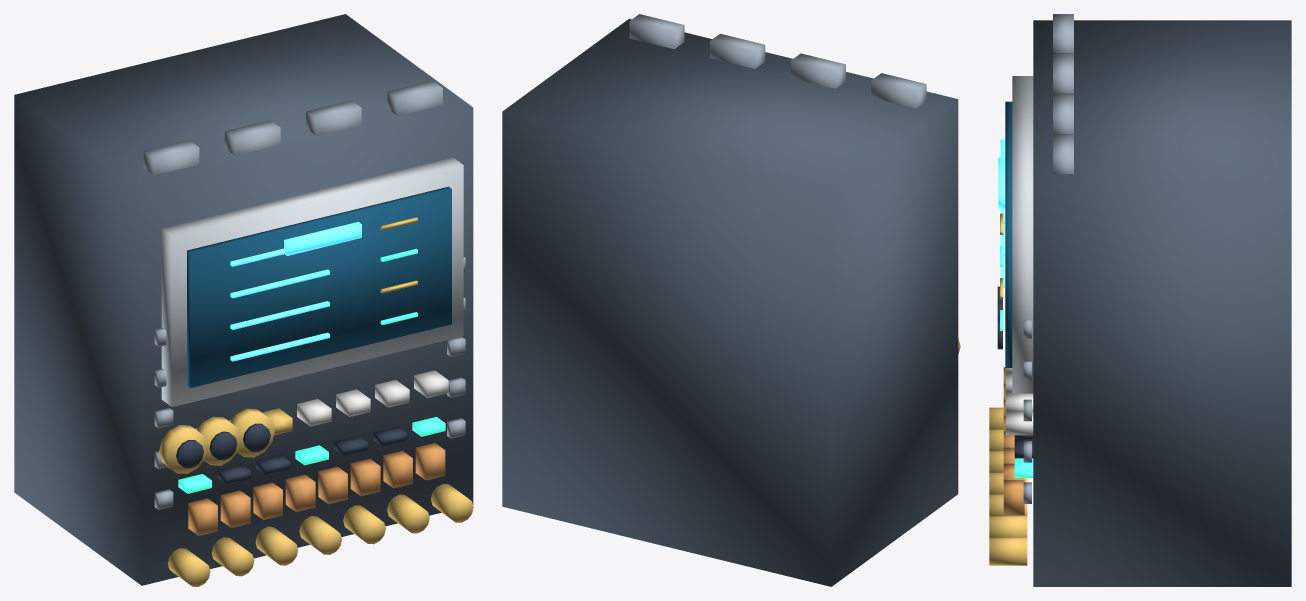
File: 71_L87_IndependentOverspeedProtector.glb
3 renders of one model, left to right at view 1: azimuth 30°, elevation 25°; view 2: azimuth 150°, elevation 25°; view 3: azimuth 270°, elevation 25°, orthographic.
Parts seen in each view (by area): view 1: L87_IndependentOverspeedProte_Part_0000, L87_IndependentOverspeedProte_Part_0002, L87_IndependentOverspeedProte_Part_0001, L87_IndependentOverspeedProte_Part_0004, L87_IndependentOverspeedProte_Part_0009, L87_IndependentOverspeedProte_Part_0010, L87_IndependentOverspeedProte_Part_0006, L87_IndependentOverspeedProte_Part_0008, L87_IndependentOverspeedProte_Part_0003, L87_IndependentOverspeedProte_Part_0007, L87_IndependentOverspeedProte_Part_0005, L87_IndependentOverspeedProte_Part_0011 (+6 smaller); view 2: L87_IndependentOverspeedProte_Part_0000, L87_IndependentOverspeedProte_Part_0010; view 3: L87_IndependentOverspeedProte_Part_0000, L87_IndependentOverspeedProte_Part_0001, L87_IndependentOverspeedProte_Part_0004, L87_IndependentOverspeedProte_Part_0010, L87_IndependentOverspeedProte_Part_0002, L87_IndependentOverspeedProte_Part_0009, L87_IndependentOverspeedProte_Part_0006, L87_IndependentOverspeedProte_Part_0008, L87_IndependentOverspeedProte_Part_0005, L87_IndependentOverspeedProte_Part_0011.
Boxes of the visible parts, box(x1,y1,x2,y2) form: L87_IndependentOverspeedProte_Part_0000: box(14, 14, 473, 585); L87_IndependentOverspeedProte_Part_0002: box(187, 186, 451, 387); L87_IndependentOverspeedProte_Part_0001: box(161, 157, 463, 406); L87_IndependentOverspeedProte_Part_0004: box(167, 217, 473, 586); L87_IndependentOverspeedProte_Part_0009: box(188, 443, 445, 535); L87_IndependentOverspeedProte_Part_0010: box(143, 80, 442, 175); L87_IndependentOverspeedProte_Part_0006: box(195, 370, 448, 429); L87_IndependentOverspeedProte_Part_0008: box(154, 257, 465, 509); L87_IndependentOverspeedProte_Part_0003: box(230, 248, 329, 361); L87_IndependentOverspeedProte_Part_0007: box(217, 426, 406, 484); L87_IndependentOverspeedProte_Part_0005: box(178, 248, 445, 493); L87_IndependentOverspeedProte_Part_0011: box(284, 222, 361, 255); L87_IndependentOverspeedProte_Part_0000: box(502, 19, 958, 586); L87_IndependentOverspeedProte_Part_0010: box(629, 14, 926, 108); L87_IndependentOverspeedProte_Part_0000: box(1033, 20, 1291, 586); L87_IndependentOverspeedProte_Part_0001: box(1012, 76, 1033, 393); L87_IndependentOverspeedProte_Part_0004: box(989, 213, 1027, 565); L87_IndependentOverspeedProte_Part_0010: box(1053, 14, 1073, 173); L87_IndependentOverspeedProte_Part_0002: box(1005, 101, 1012, 367); L87_IndependentOverspeedProte_Part_0009: box(1003, 367, 1024, 515); L87_IndependentOverspeedProte_Part_0006: box(1005, 368, 1033, 435); L87_IndependentOverspeedProte_Part_0008: box(1023, 320, 1031, 503); L87_IndependentOverspeedProte_Part_0005: box(1000, 245, 1033, 477); L87_IndependentOverspeedProte_Part_0011: box(998, 157, 1005, 208).
Size of the model in its own units: 1.04 by 1.24 by 0.8109.
